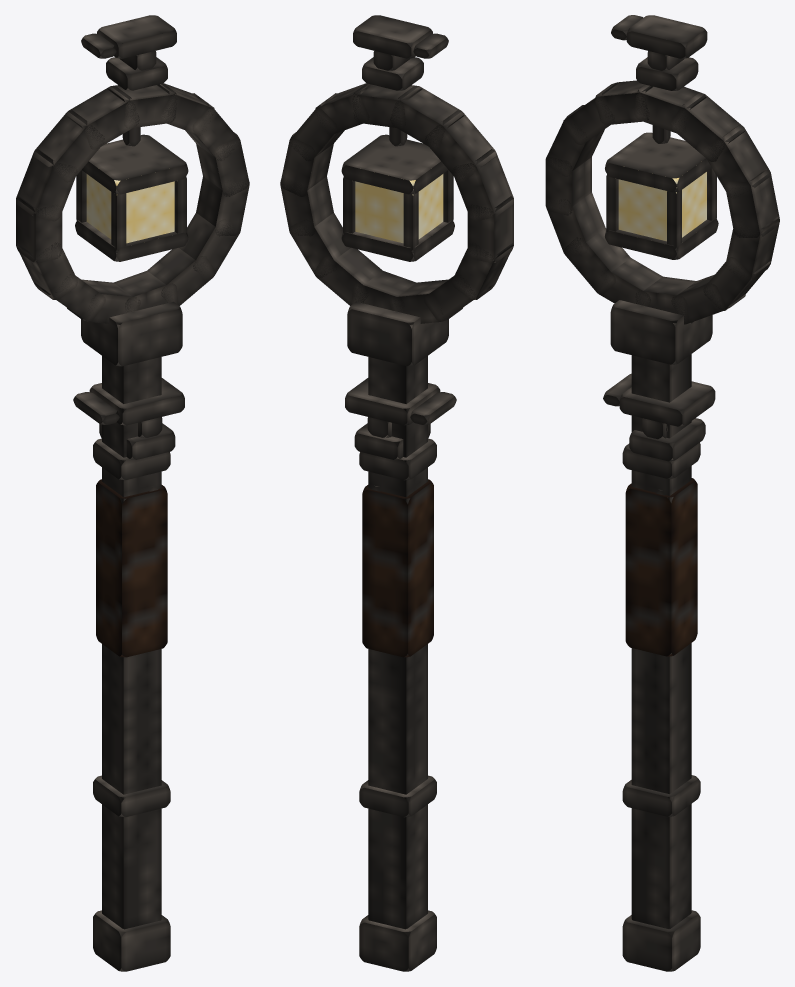
The model's file is hearth_staff.obj.
3 views of the same model, side by side, from view 1: azimuth 30°, elevation 25°; view 2: azimuth 150°, elevation 25°; view 3: azimuth 330°, elevation 25° (orthographic).
Visible parts, largest first — view 1: lit, fire; view 2: lit, fire; view 3: lit, fire.
Boxes of the visible parts, x1,y1,x2,y2 form: lit: (16, 15, 249, 971); fire: (86, 174, 174, 243); lit: (280, 15, 513, 971); fire: (355, 174, 443, 243); lit: (545, 15, 779, 971); fire: (615, 172, 706, 241).
Size of the model in its own units: 0.7148 by 2.92 by 0.2375.
